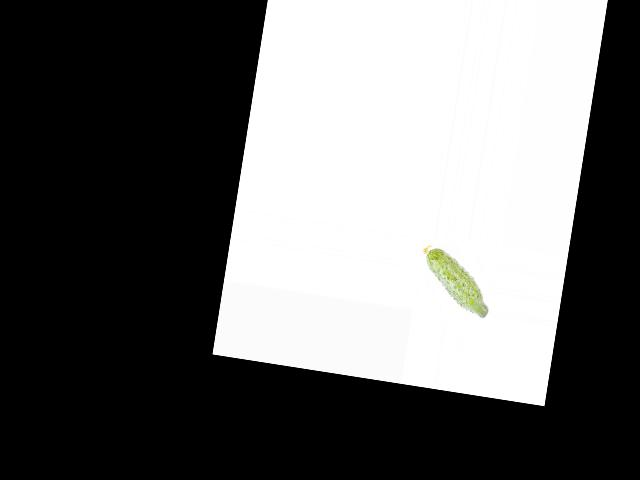cucumber: (413, 244, 496, 319)
